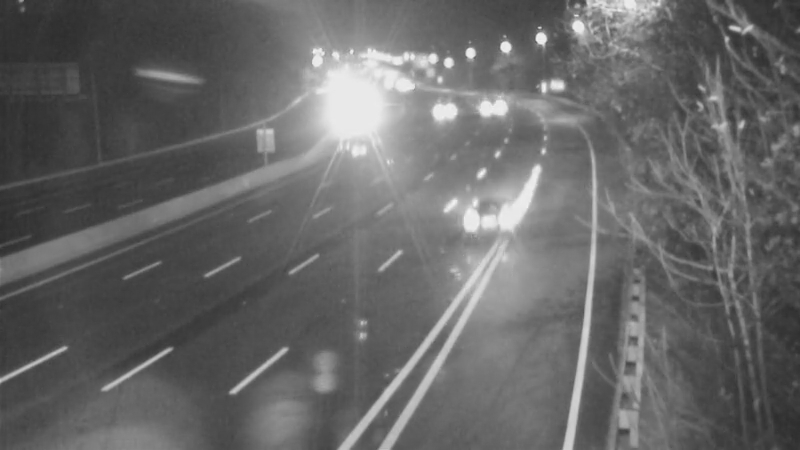vehicle: (452, 182, 532, 262), (418, 87, 468, 137), (463, 80, 513, 130)
